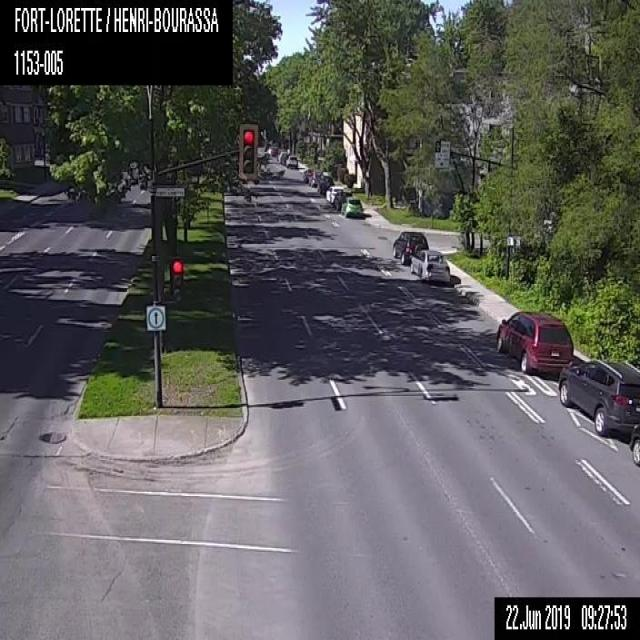vehicle: (560, 359, 639, 444), (495, 308, 573, 376), (409, 248, 451, 284), (392, 230, 431, 266), (340, 196, 364, 219), (628, 423, 639, 469), (332, 191, 352, 208), (325, 185, 343, 202), (317, 174, 334, 192), (307, 170, 322, 186), (286, 155, 297, 168), (276, 148, 287, 160), (280, 152, 290, 163), (268, 145, 278, 155), (302, 169, 308, 181)
